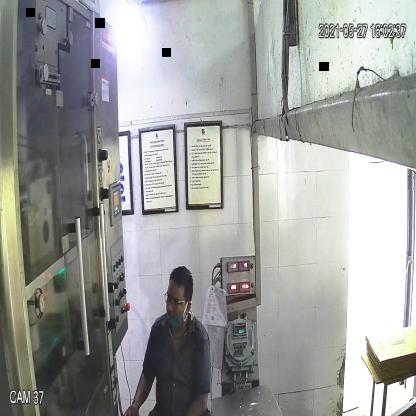goggles: (162, 289, 189, 313)
